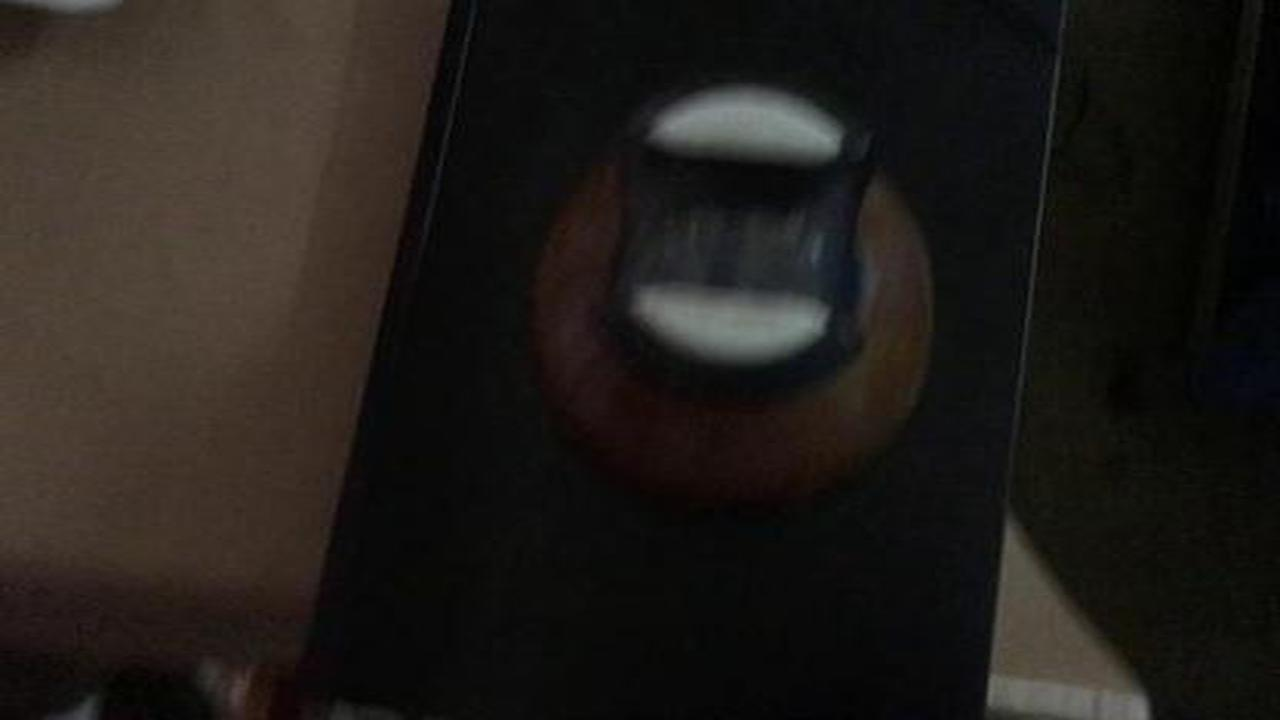insulator_pin: (511, 65, 945, 541)
